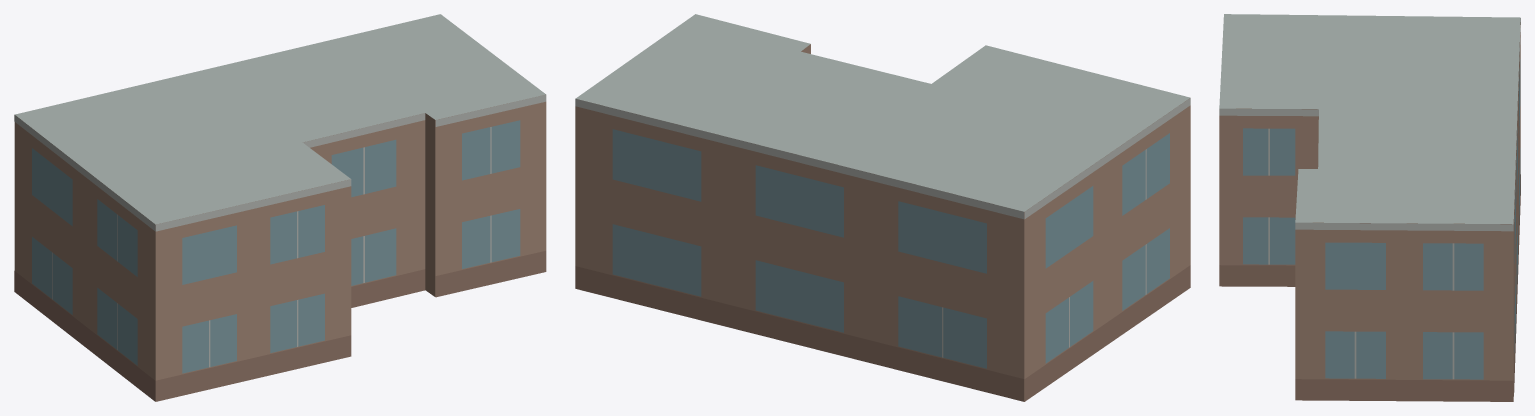
The model's file is survey-upis-32805350.glb.
3 renders of one model, left to right at view 1: azimuth 30°, elevation 25°; view 2: azimuth 150°, elevation 25°; view 3: azimuth 270°, elevation 25°, orthographic. The views are drawn at different scales.
Visible parts, largest first — view 1: survey-upis-32805350.tmp; view 2: survey-upis-32805350.tmp; view 3: survey-upis-32805350.tmp.
Boxes of the visible parts, box(x1,y1,x2,y2) form: survey-upis-32805350.tmp: box(14, 14, 546, 401); survey-upis-32805350.tmp: box(575, 14, 1190, 401); survey-upis-32805350.tmp: box(1219, 14, 1520, 401).
Bounding box in the file's own units: 15.47 × 6.1 × 9.38.
